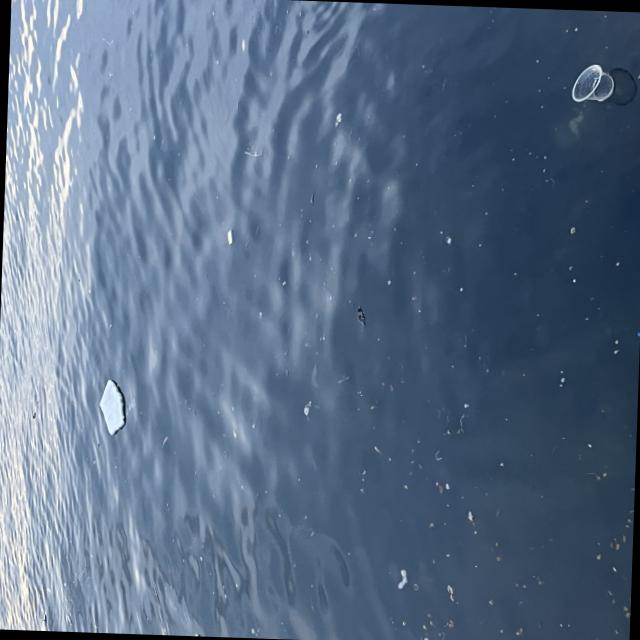foam: (99, 378, 127, 434)
plastic bottle: (572, 64, 614, 102), (397, 569, 408, 587), (226, 229, 232, 243), (191, 633, 201, 636)
unknow: (32, 411, 36, 417)
